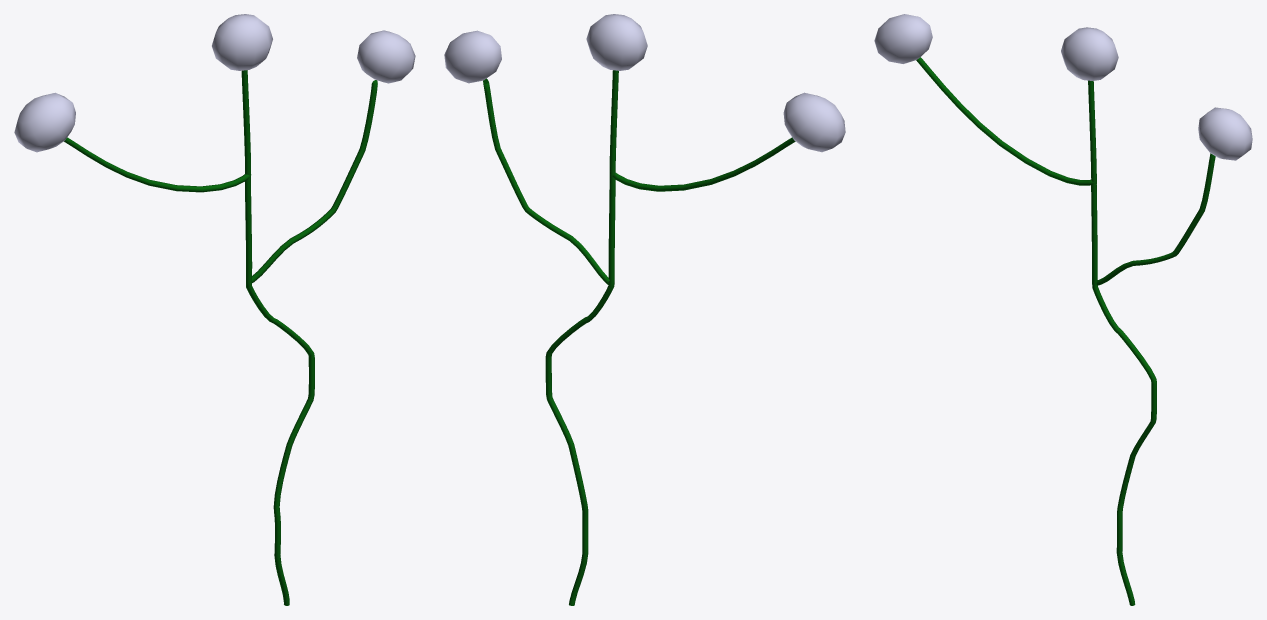
Rendered from SM_VineSet.005.fbx.
3 renders of one model, left to right at view 1: azimuth 30°, elevation 25°; view 2: azimuth 150°, elevation 25°; view 3: azimuth 330°, elevation 25°, orthographic. The views are drawn at different scales.
Visible parts, largest first — view 1: SM_VineSet_005; view 2: SM_VineSet_005; view 3: SM_VineSet_005.
Boxes of the visible parts, <box> form: SM_VineSet_005: <box>14,14,415,605</box>; SM_VineSet_005: <box>444,14,845,605</box>; SM_VineSet_005: <box>874,14,1252,605</box>.
Bounding box in the file's own units: 35.9 × 296 × 430.
